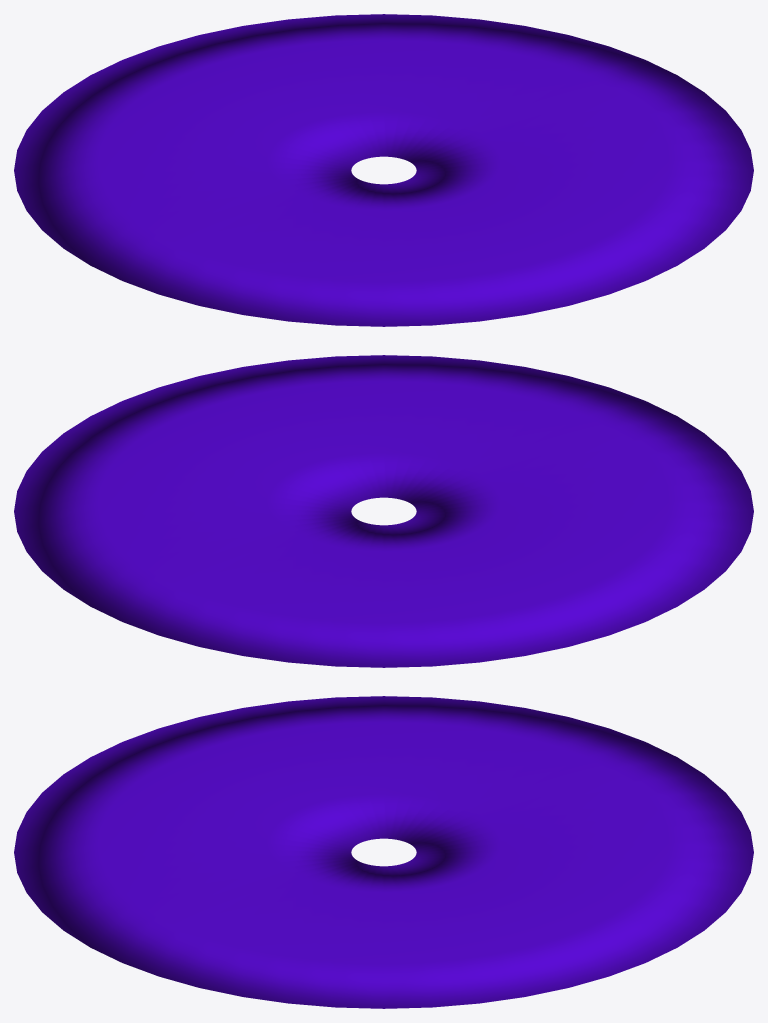
File: CDModel.fbx
3 views of the same model, one above another, from view 1: azimuth 30°, elevation 25°; view 2: azimuth 150°, elevation 25°; view 3: azimuth 270°, elevation 25° (orthographic).
Parts seen in each view (by area): view 1: Torus; view 2: Torus; view 3: Torus.
Boxes of the visible parts, x1=… form: Torus: x1=14, y1=14, x2=753, y2=326; Torus: x1=14, y1=355, x2=753, y2=667; Torus: x1=14, y1=696, x2=753, y2=1008.
Size of the model in its own units: 5.46 by 0.1525 by 5.46.
